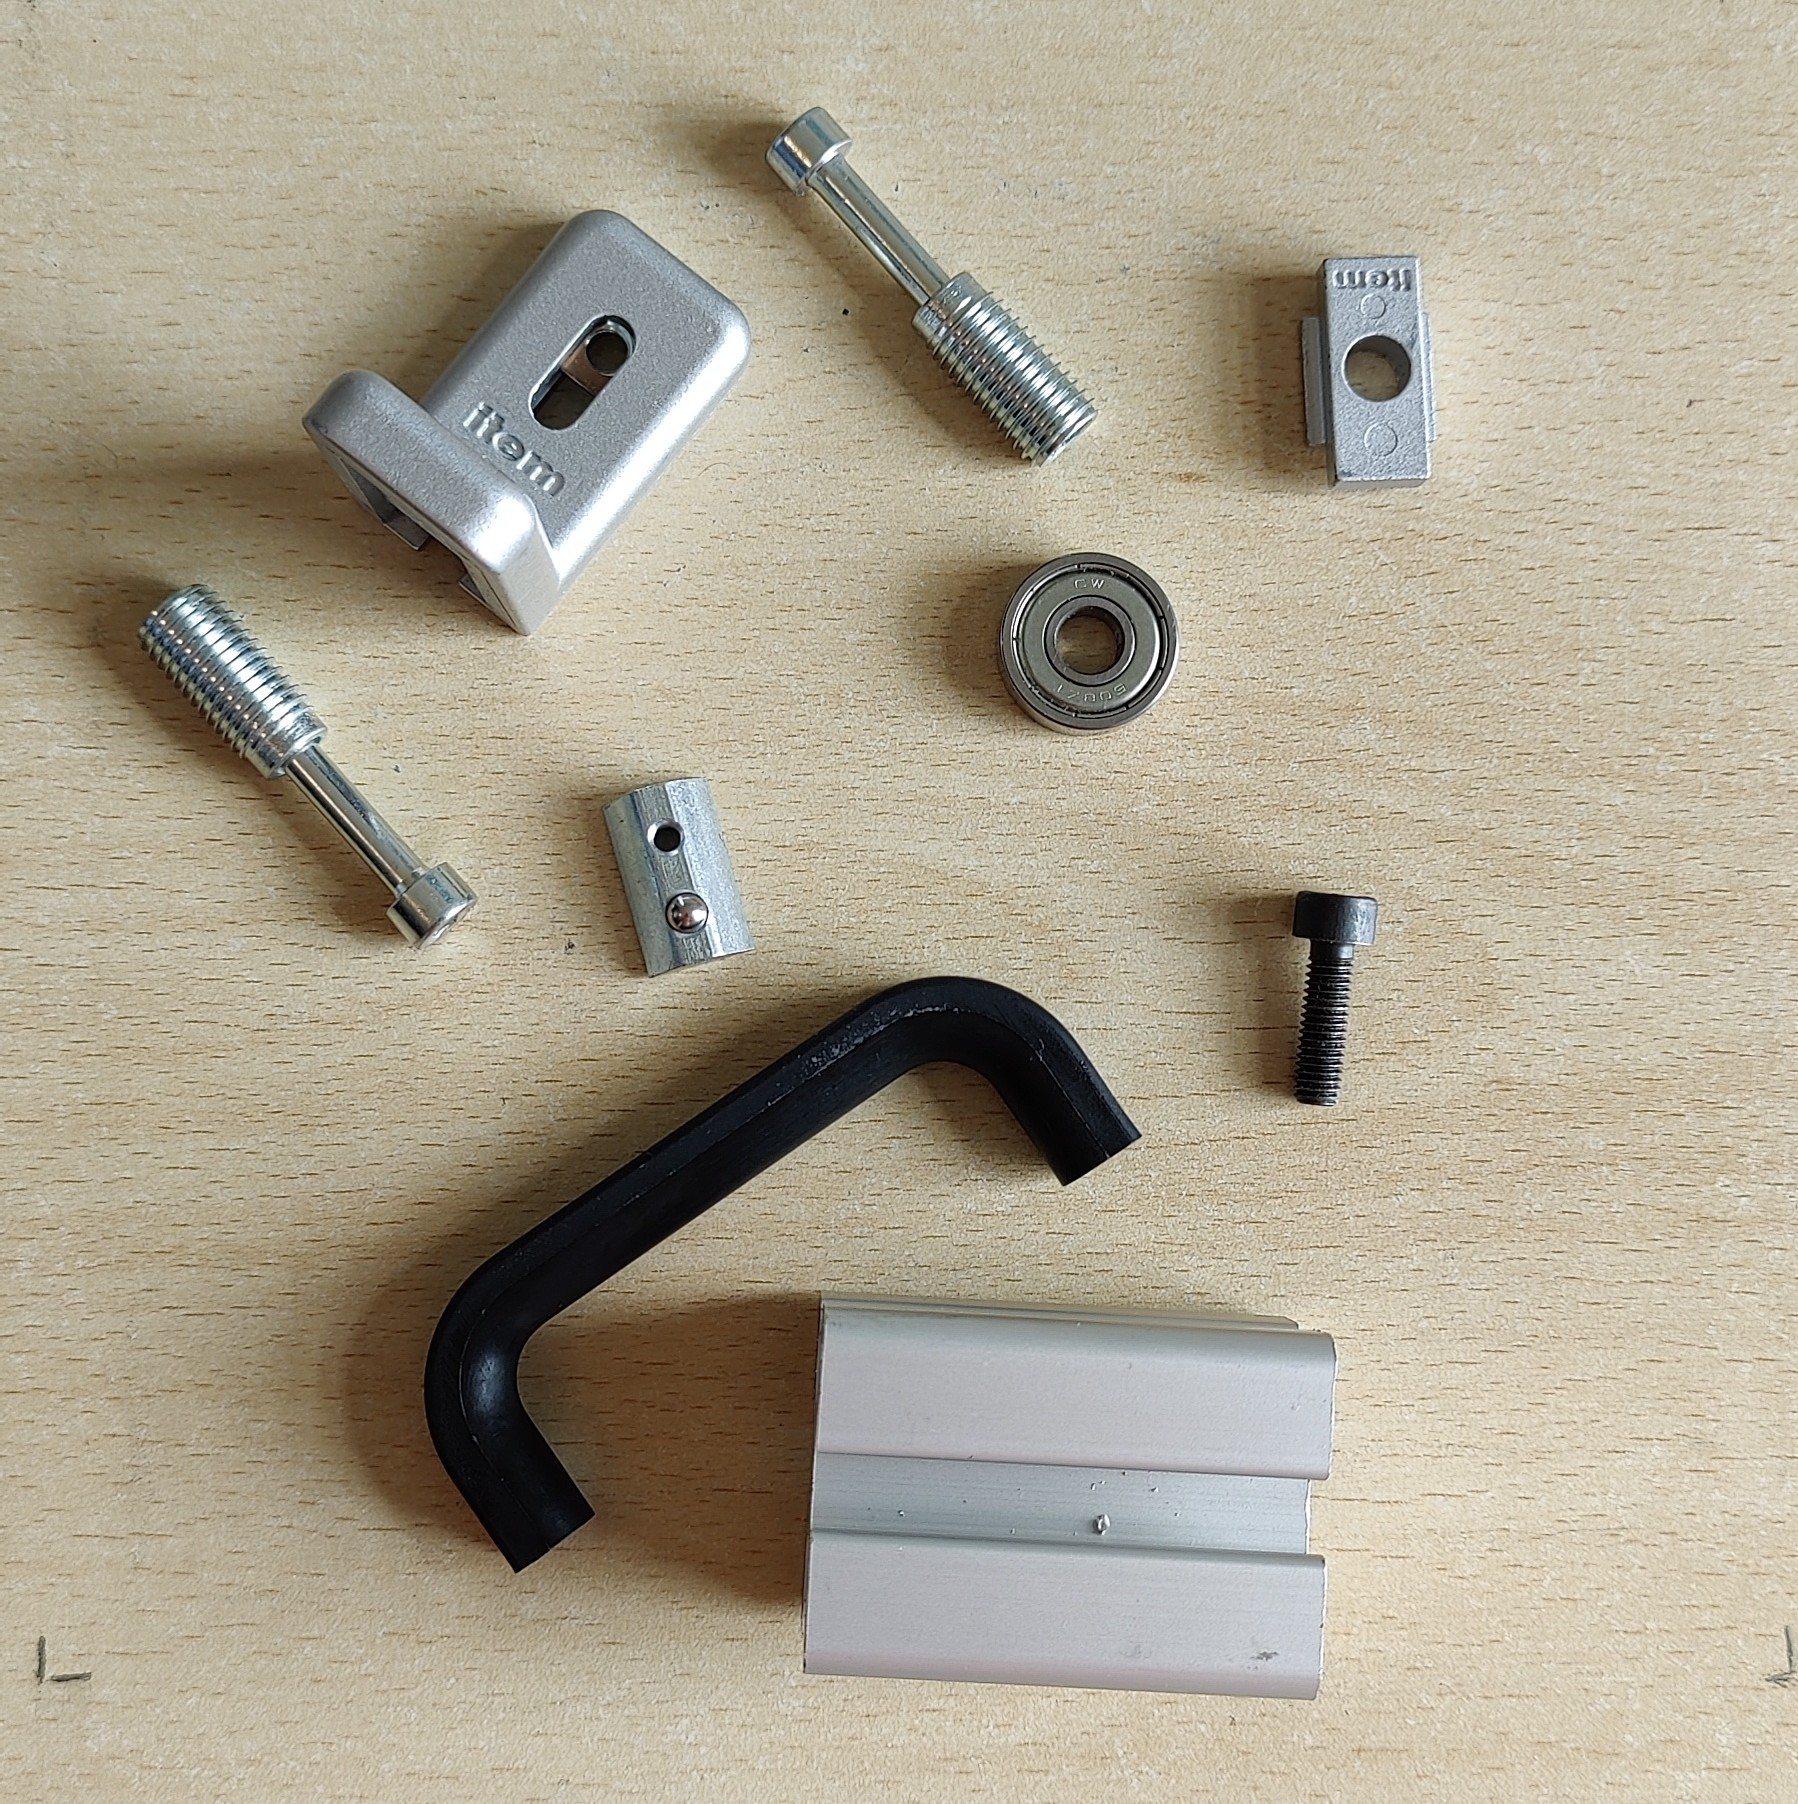Aluminium Extension: (799, 1290, 1337, 1704)
Ball Bearing: (998, 551, 1182, 737)
Multiwinkel: (300, 207, 756, 637)
Pull Handle: (422, 974, 1143, 1577)
Shoulder Socket Head Cap Screw: (137, 579, 481, 955), (761, 107, 1103, 471)
Socket Head Cap Screw: (1284, 886, 1380, 1108)
T Nut Square: (1297, 252, 1437, 495)
T Spring Nut: (599, 774, 761, 979)
